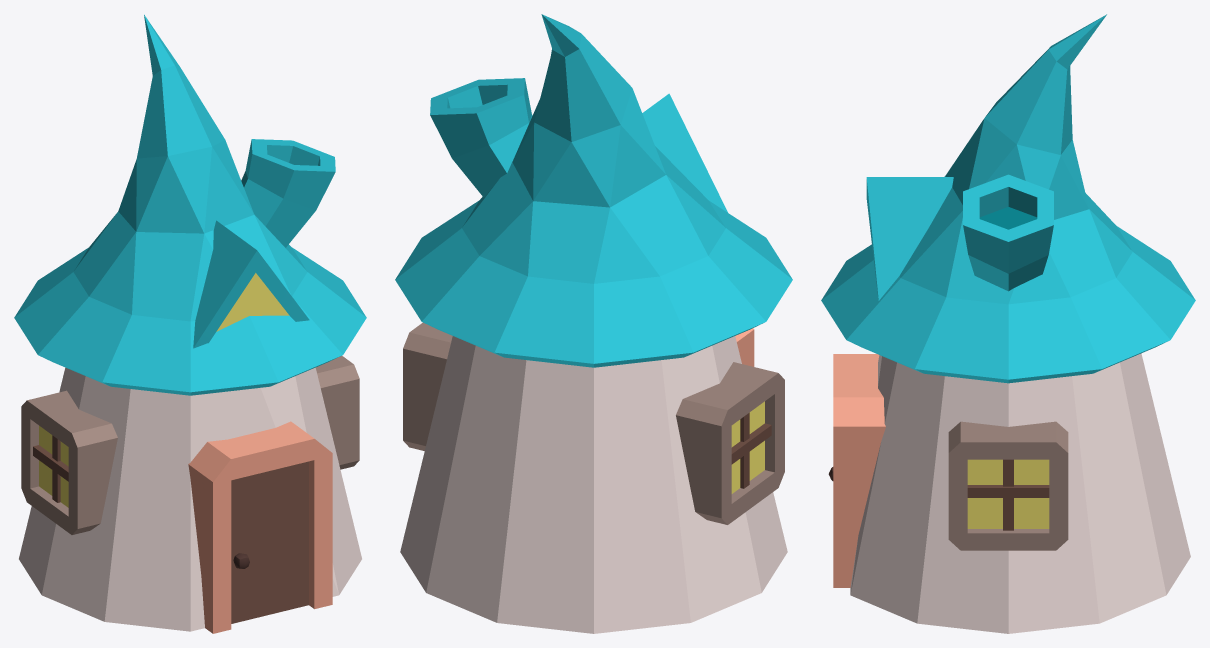
The model's file is building_018.fbx.
3 renders of one model, left to right at view 1: azimuth 30°, elevation 25°; view 2: azimuth 150°, elevation 25°; view 3: azimuth 270°, elevation 25°, orthographic. The views are drawn at different scales.
Visible parts, largest first — view 1: building.018; view 2: building.018; view 3: building.018.
Part boxes in pixels (box(x1,y1,x2,y2)): building.018: box(14, 14, 366, 633); building.018: box(395, 14, 792, 633); building.018: box(821, 14, 1195, 633).
Size of the model in its own units: 580 by 927 by 580.
Materials: 1 (1 with a texture image).
